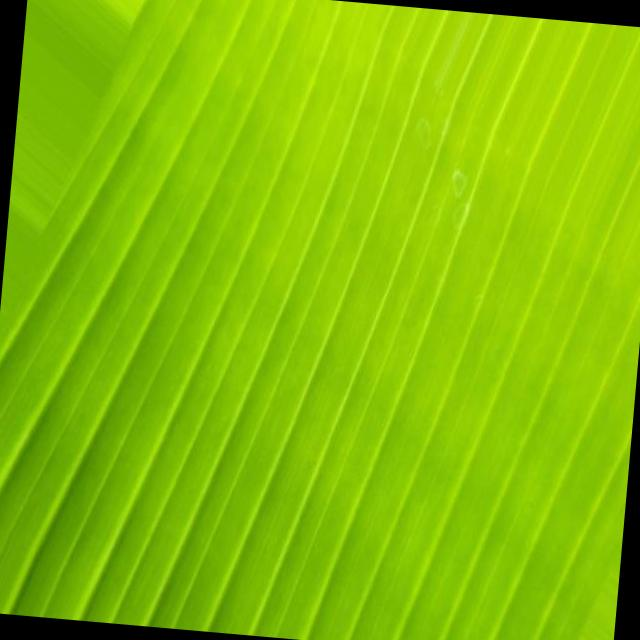Banana_Healthy: (136, 86, 553, 528)
